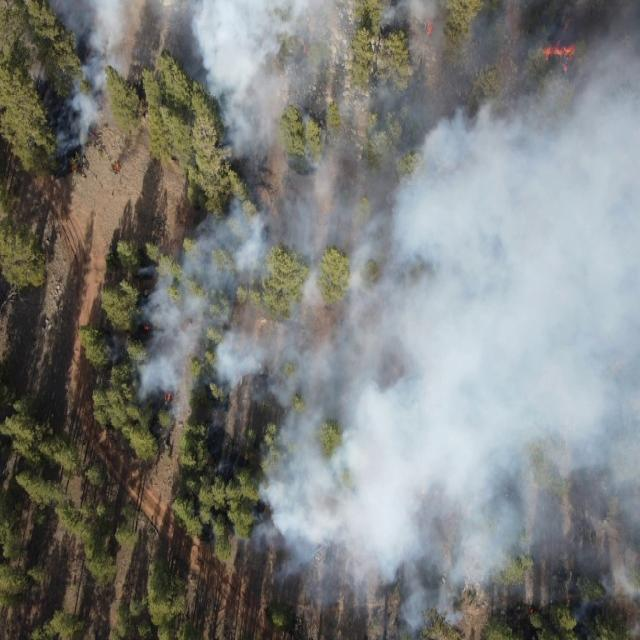fire: (542, 15, 577, 75), (110, 158, 122, 174), (72, 162, 82, 178), (166, 388, 174, 408), (426, 21, 437, 35), (144, 322, 151, 336), (303, 44, 310, 56)
smoke: (161, 4, 640, 640), (43, 0, 157, 150), (138, 261, 164, 421)
